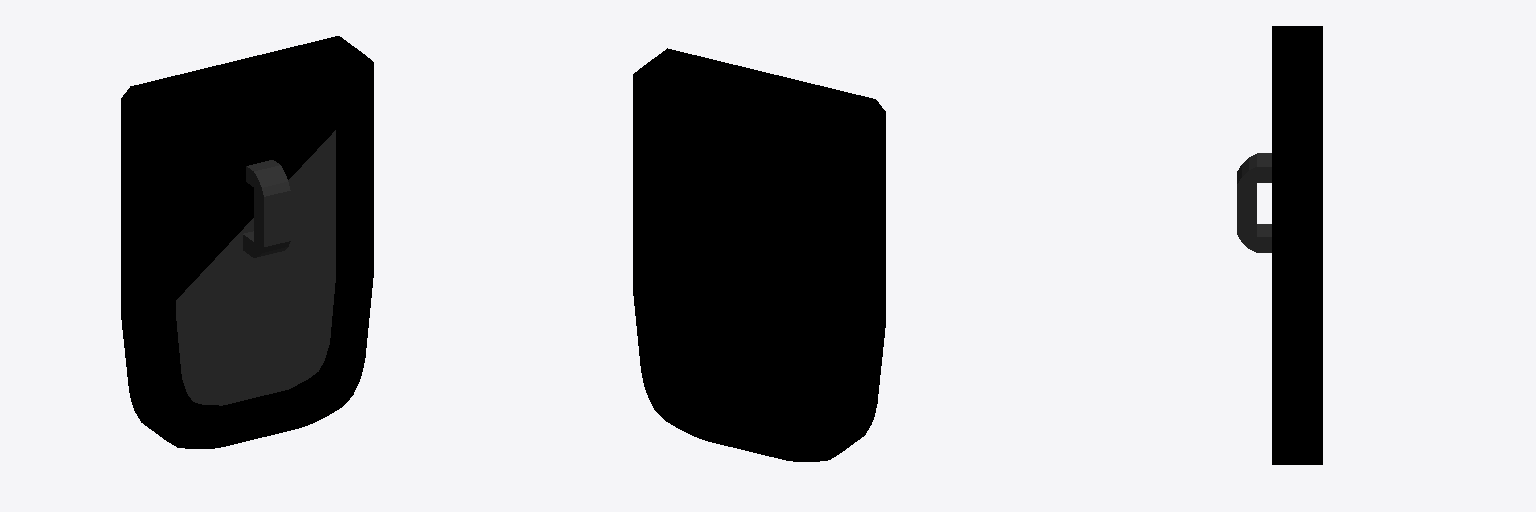
File: Shield.obj
3 renders of one model, left to right at view 1: azimuth 30°, elevation 25°; view 2: azimuth 150°, elevation 25°; view 3: azimuth 270°, elevation 25°, orthographic.
Parts seen in each view (by area): view 1: pPlane1; view 2: pPlane1; view 3: pPlane1.
Part boxes in pixels (left/top/right/bottom): pPlane1: left=121, top=36, right=373, bottom=448; pPlane1: left=633, top=48, right=885, bottom=461; pPlane1: left=1237, top=26, right=1322, bottom=464.
Size of the model in its own units: 2.41 by 3.62 by 0.7812.